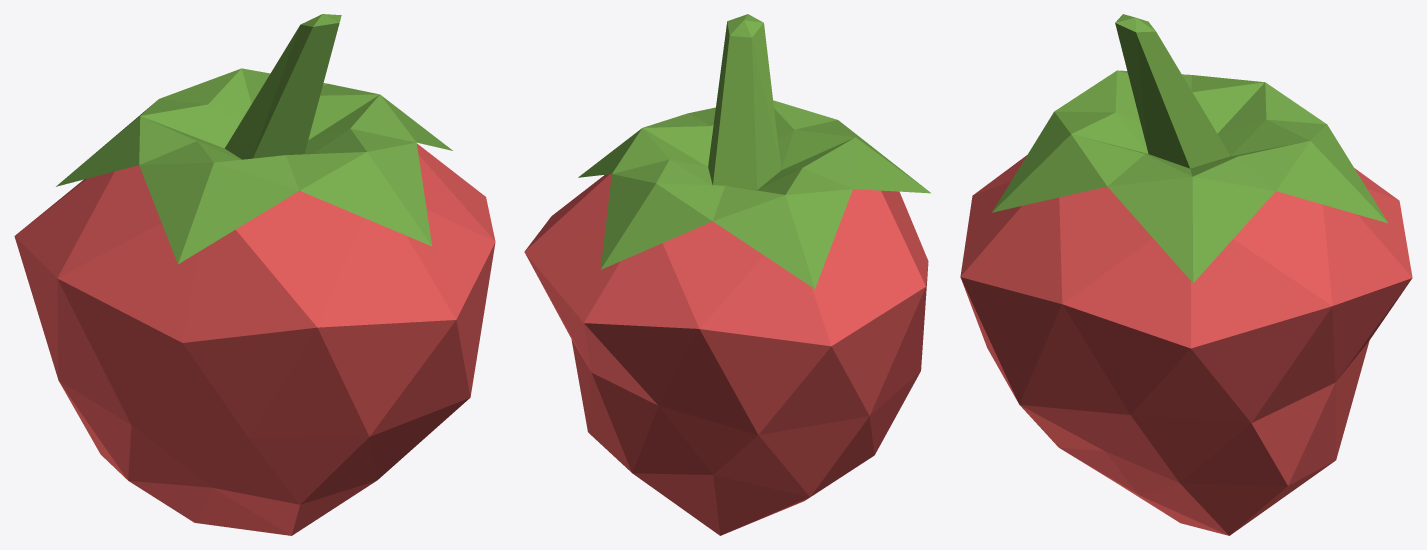
Rendered from Strawberry.fbx.
The picture shows the model from 3 angles, left to right: view 1: azimuth 30°, elevation 25°; view 2: azimuth 150°, elevation 25°; view 3: azimuth 270°, elevation 25°; orthographic projection. The views are drawn at different scales.
Visible parts, largest first — view 1: Strawberry_LOD0; view 2: Strawberry_LOD0; view 3: Strawberry_LOD0.
Part boxes in pixels (bbox=[...]): Strawberry_LOD0: bbox=[14, 14, 495, 535]; Strawberry_LOD0: bbox=[524, 14, 930, 535]; Strawberry_LOD0: bbox=[960, 14, 1412, 535].
Size of the model in its own units: 33.62 by 39.87 by 31.94.
